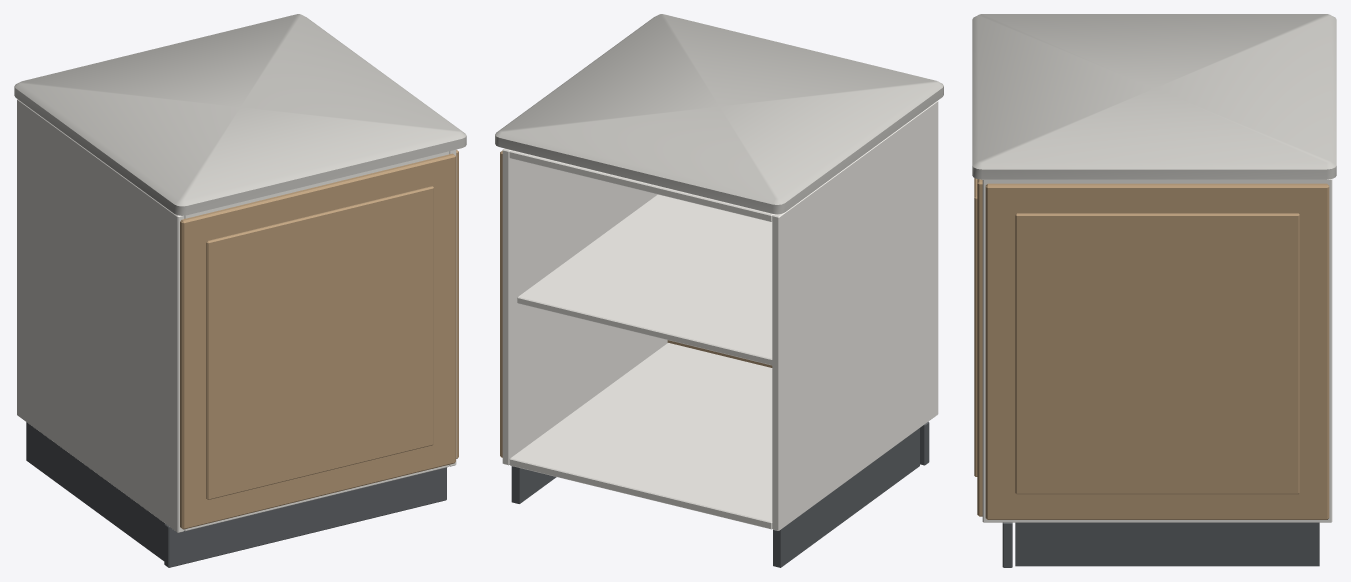
File: bakery-and-cafe-counter-corner-8d78dfc0__22126.glb
3 renders of one model, left to right at view 1: azimuth 30°, elevation 25°; view 2: azimuth 150°, elevation 25°; view 3: azimuth 270°, elevation 25°, orthographic. The views are drawn at different scales.
Visible parts, largest first — view 1: counter-corner; view 2: counter-corner; view 3: counter-corner.
Part boxes in pixels (x1,y1,x2,y2): counter-corner: (14,14,466,567); counter-corner: (495,14,943,567); counter-corner: (972,14,1336,567).
Bounding box in the file's own units: 0.73 × 0.9 × 0.73.
